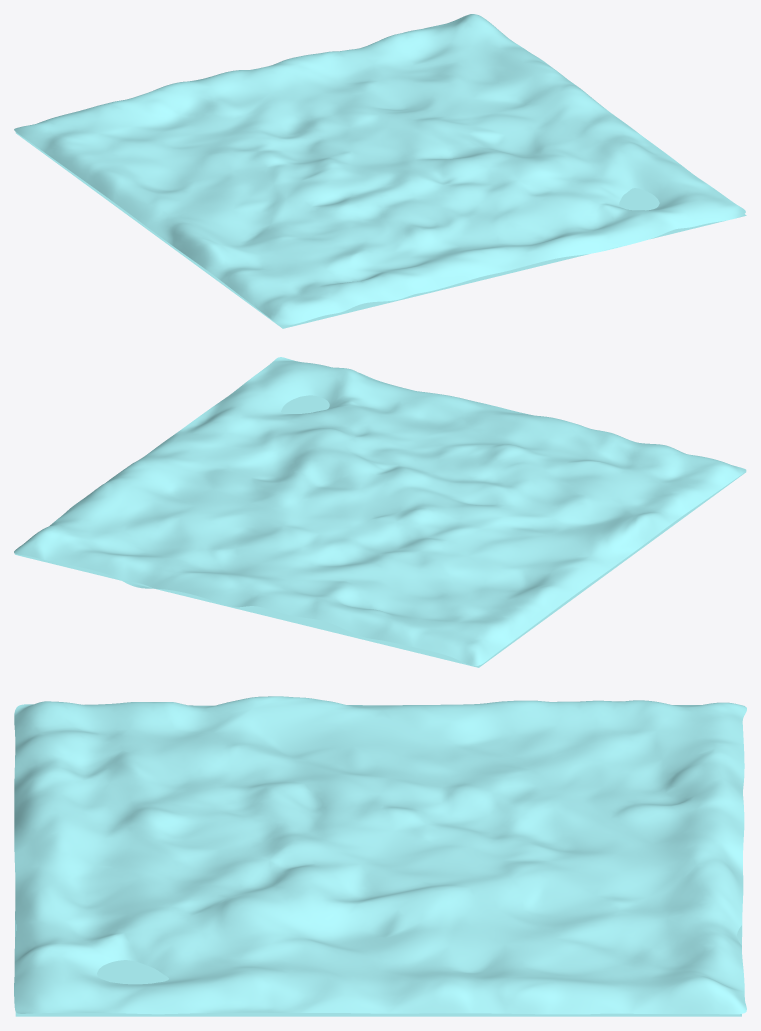
File: icebox.glb
The picture shows the model from 3 angles, top to bottom: view 1: azimuth 30°, elevation 25°; view 2: azimuth 150°, elevation 25°; view 3: azimuth 270°, elevation 25°; orthographic projection. The views are drawn at different scales.
Parts seen in each view (by area): view 1: Plane, Bake; view 2: Plane, Bake; view 3: Plane, Bake.
Boxes of the visible parts, x1,y1,x2,y2 form: Plane: [14, 14, 745, 325]; Bake: [15, 132, 746, 328]; Plane: [14, 357, 746, 665]; Bake: [15, 389, 746, 667]; Plane: [14, 696, 746, 1014]; Bake: [15, 920, 741, 1016].
Bounding box in the file's own units: 20.21 × 1.01 × 20.18.
